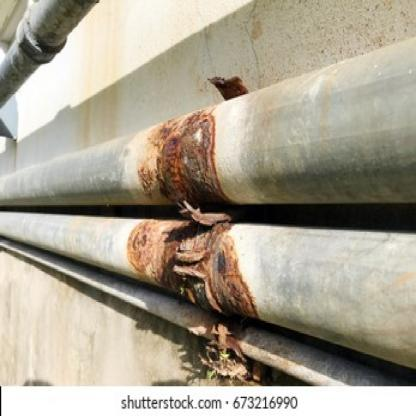burst: (127, 214, 264, 319), (147, 115, 233, 203)
